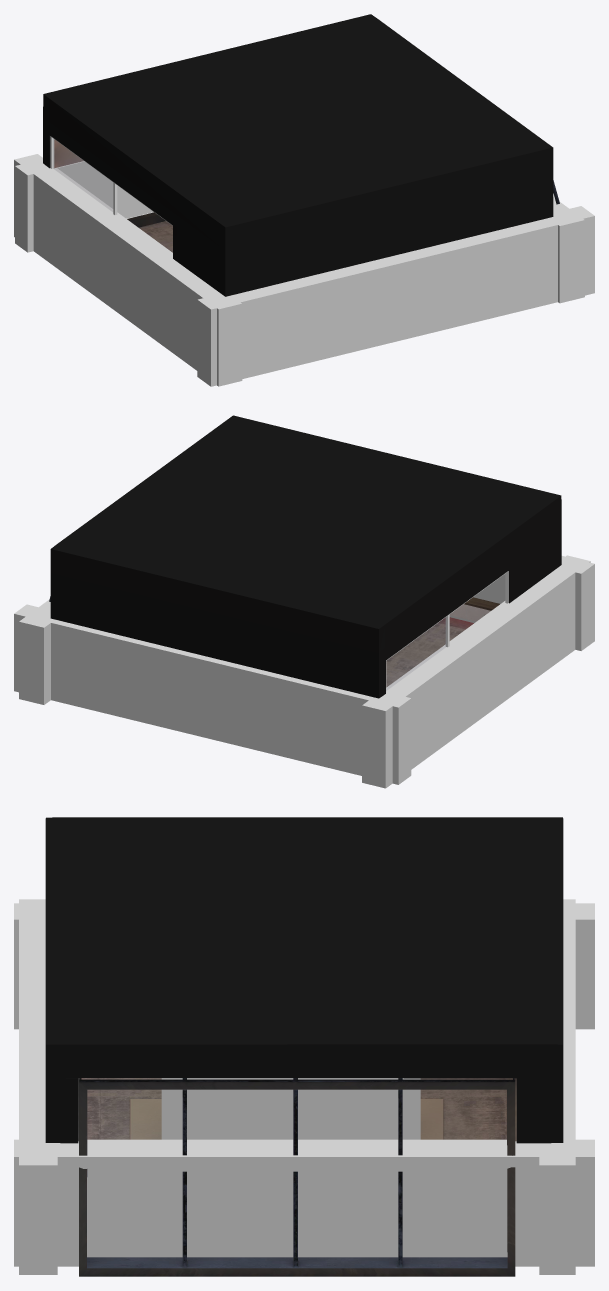
The model's file is meeting.glb.
3 renders of one model, top to bottom at view 1: azimuth 30°, elevation 25°; view 2: azimuth 150°, elevation 25°; view 3: azimuth 270°, elevation 25°, orthographic. The views are drawn at different scales.
Visible parts, largest first — view 1: mur ext_noir_0, COL_wall_s, COL_wall_w, COL_wall_n, COL_wall_e, bureau_sol_, bureaux_murs; view 2: mur ext_noir_0, COL_wall_n, COL_wall_w, COL_wall_e, COL_wall_s, bureau_sol_, bureaux_murs; view 3: mur ext_noir_0, COL_wall_e, bureaux_murs, COL_table, COL_wall_s, bureau_sol_, COL_wall_n, COL_wall_w.
Part boxes in pixels (<box>): mur ext_noir_0: <box>43,14,553,296</box>; COL_wall_s: <box>197,206,594,386</box>; COL_wall_w: <box>14,154,242,386</box>; COL_wall_n: <box>15,161,153,252</box>; COL_wall_e: <box>549,197,584,303</box>; bureau_sol_: <box>127,212,172,252</box>; bureaux_murs: <box>54,139,559,204</box>; mur ext_noir_0: <box>50,415,561,698</box>; COL_wall_n: <box>14,604,411,784</box>; COL_wall_w: <box>362,555,590,788</box>; COL_wall_e: <box>19,599,54,704</box>; COL_wall_s: <box>449,556,594,650</box>; bureau_sol_: <box>386,617,473,687</box>; bureaux_murs: <box>49,596,499,621</box>; mur ext_noir_0: <box>45,817,563,1143</box>; COL_wall_e: <box>14,1139,594,1266</box>; bureaux_murs: <box>79,1078,515,1276</box>; COL_table: <box>161,1078,420,1139</box>; COL_wall_s: <box>19,899,57,1274</box>; bureau_sol_: <box>78,1078,516,1141</box>; COL_wall_n: <box>539,899,575,1274</box>; COL_wall_w: <box>14,903,594,1029</box>.
Bounding box in the file's own units: 13.2 × 4.75 × 12.
Materials: 6 (2 with a texture image).
